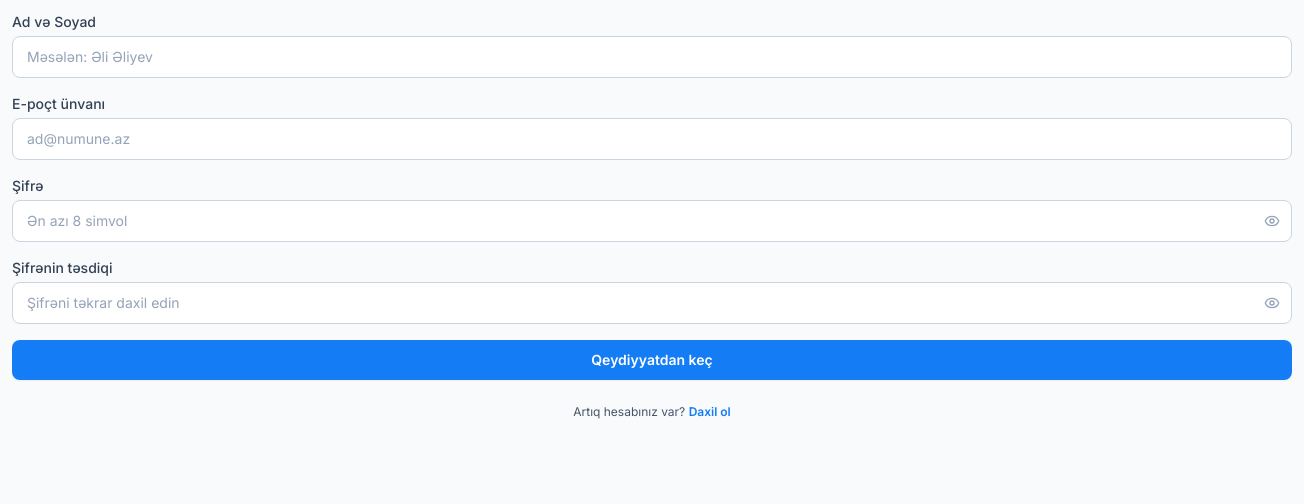
Scenario: RegisterForm Component › displays duplicate email conflict on 409 response
Step 1. Type "Əli Əliyev" into the field labelled "Ad və Soyad" → coordinates (652, 57), box [12,36,1292,78]
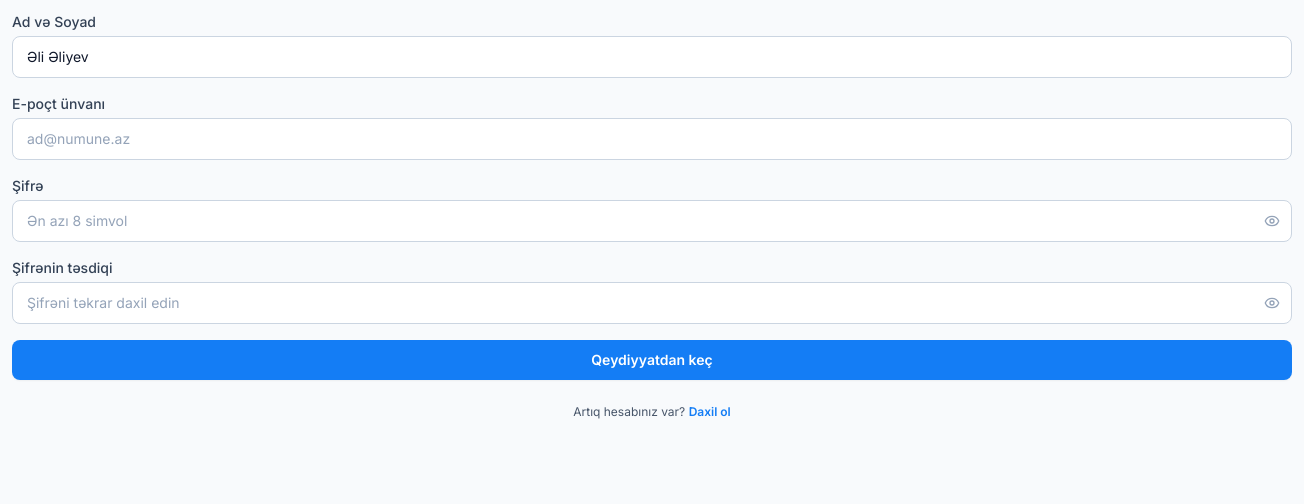
Step 2. Type "dup@feedlab.az" into the field labelled "E-poçt ünvanı" → coordinates (652, 139), box [12,118,1292,160]
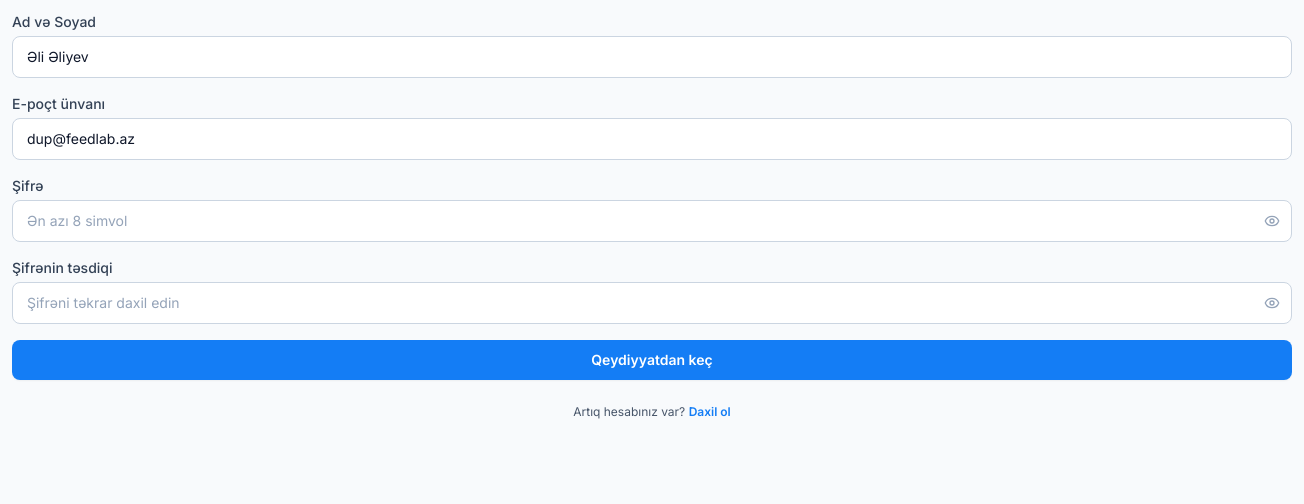
Step 3. Type "Password123!" into the password field labelled "Şifrə" → coordinates (652, 221), box [12,200,1292,242]
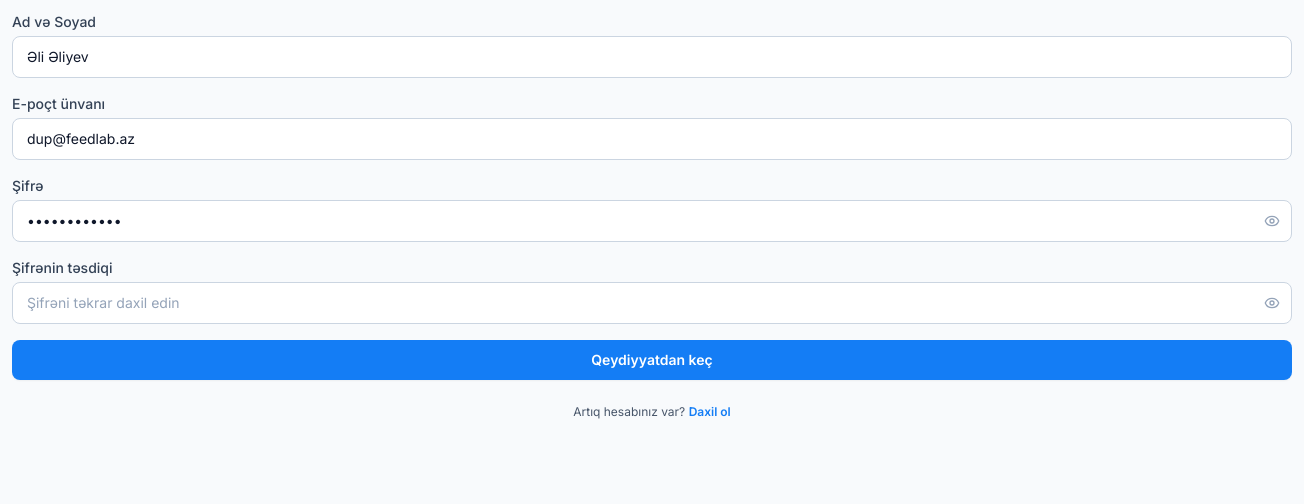
Step 4. Type "Password123!" into the password field labelled "Şifrənin təsdiqi" → coordinates (652, 303), box [12,282,1292,324]
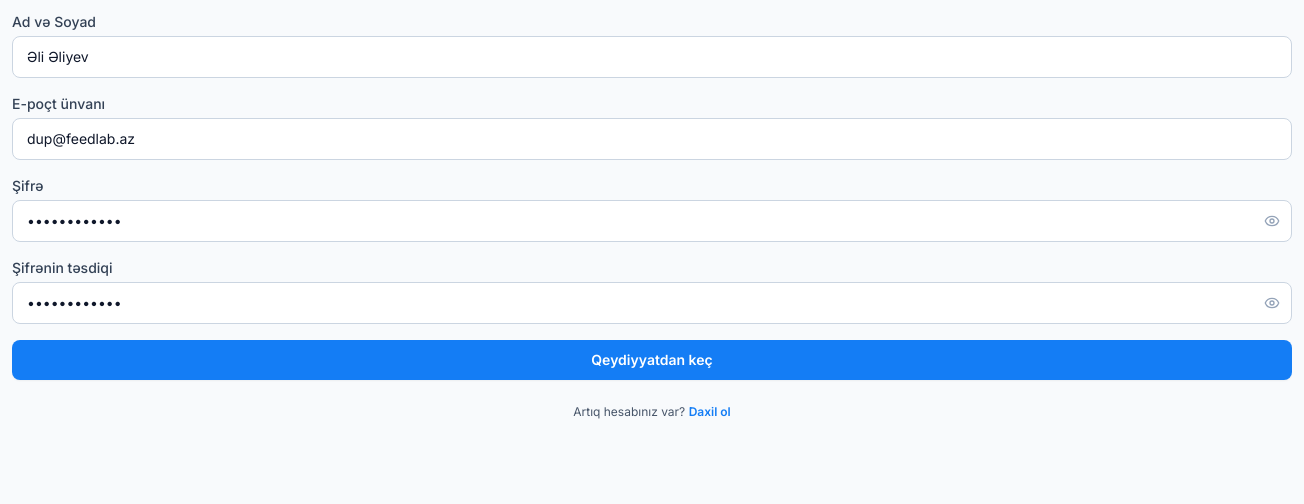
Step 5. Click the button "Qeydiyyatdan keç" → coordinates (652, 360), box [12,340,1292,380]
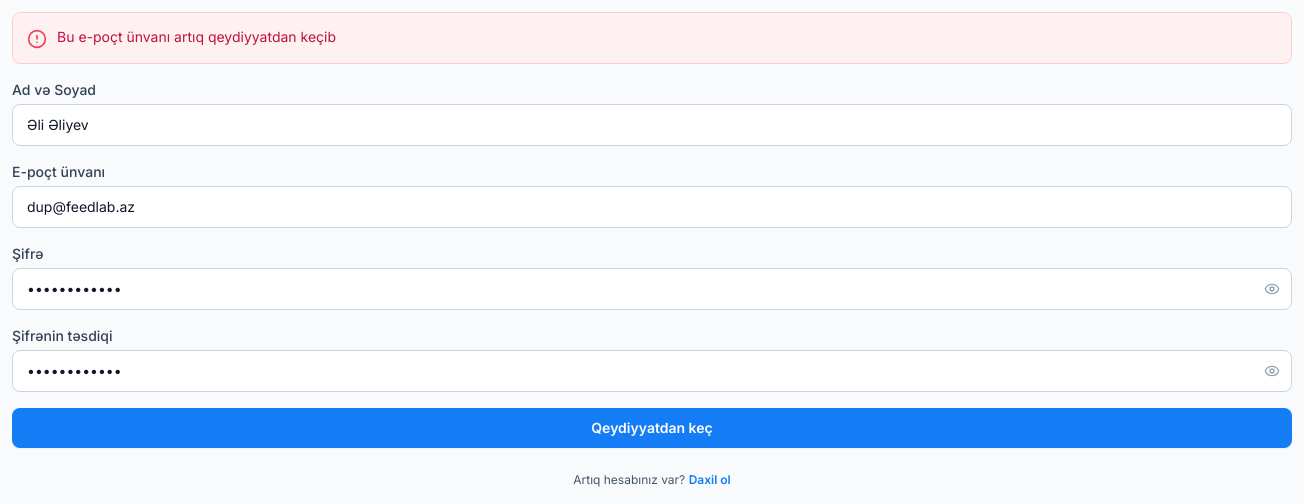
Expected: the message "Bu e-poçt ünvanı artıq qeydiyyatdan keçib" is shown, [12,12,1292,64]
Expected: the text "Bu e-poçt ünvanı artıq qeydiyyatdan keçib" is shown, [57,27,336,47]
